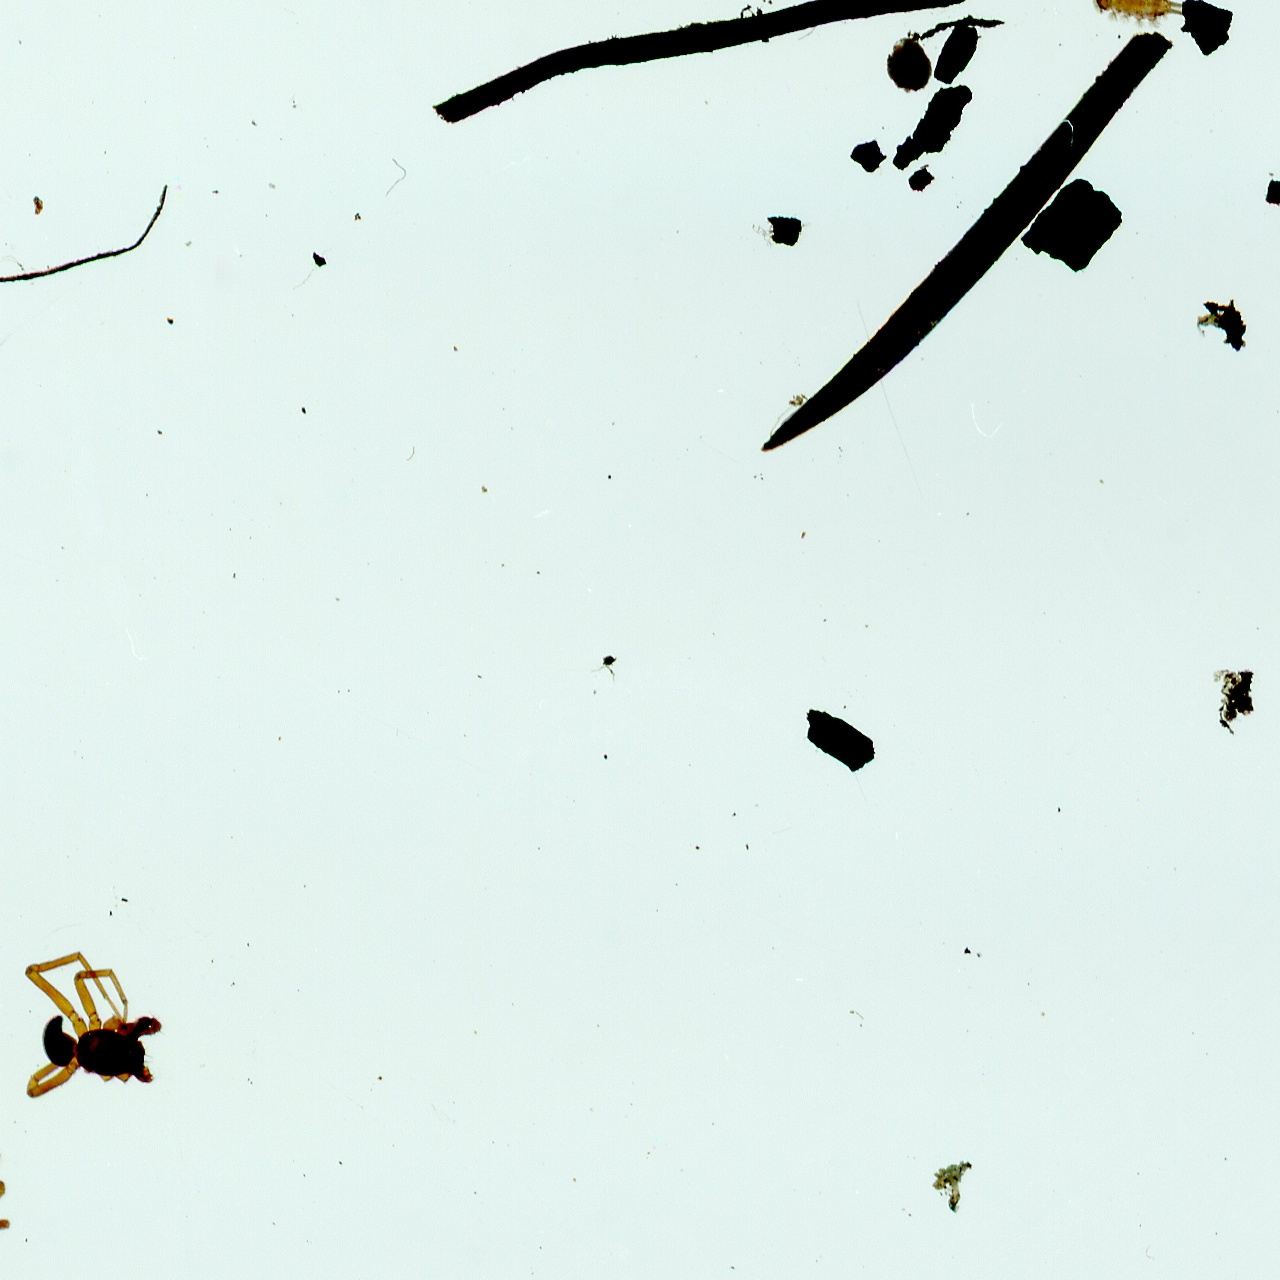arthropod: (12, 944, 172, 1103), (0, 1132, 25, 1280), (1089, 0, 1190, 27)
